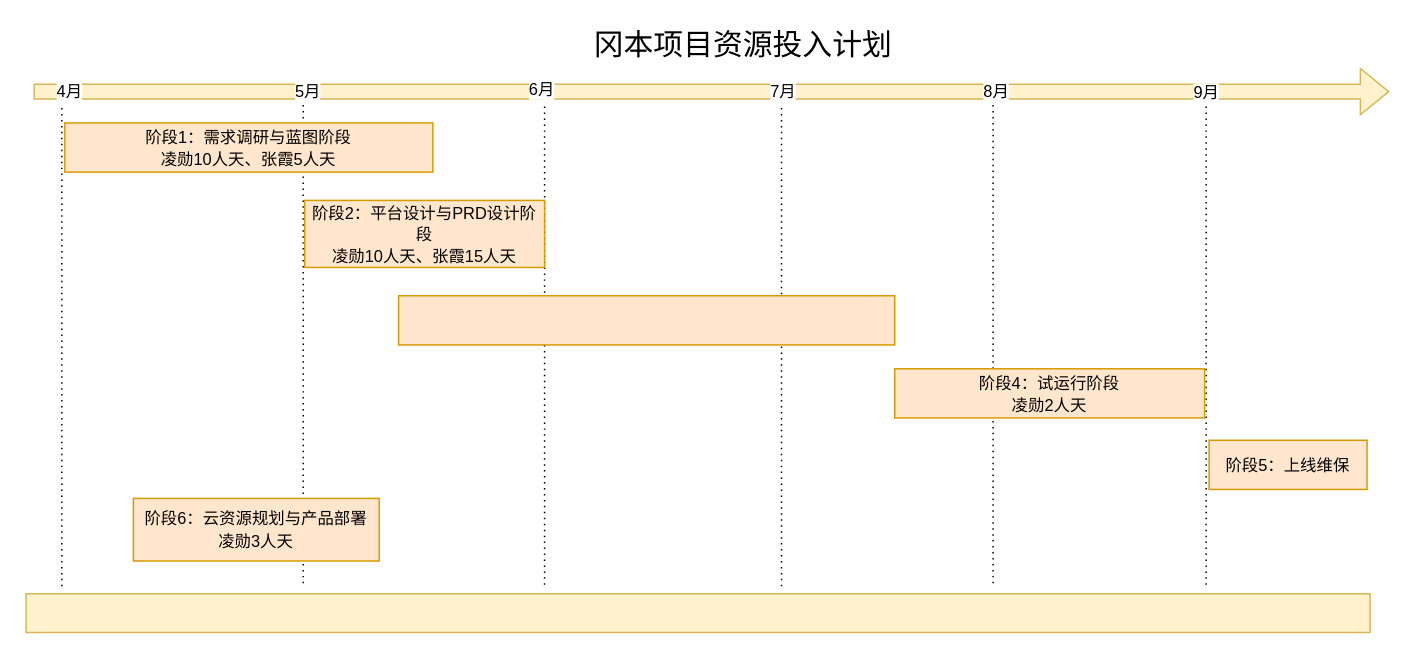
The diagram is 1416 pixels wide and 659 high, and some of its shapes have lost their labels. Each missing label, with the centre of its shape:
"成本折算后：预计凌勋37人天，张霞20人天" belongs at [697,612].
"阶段3：数据中台开发实施阶段 凌勋12人天" belongs at [646,319].
